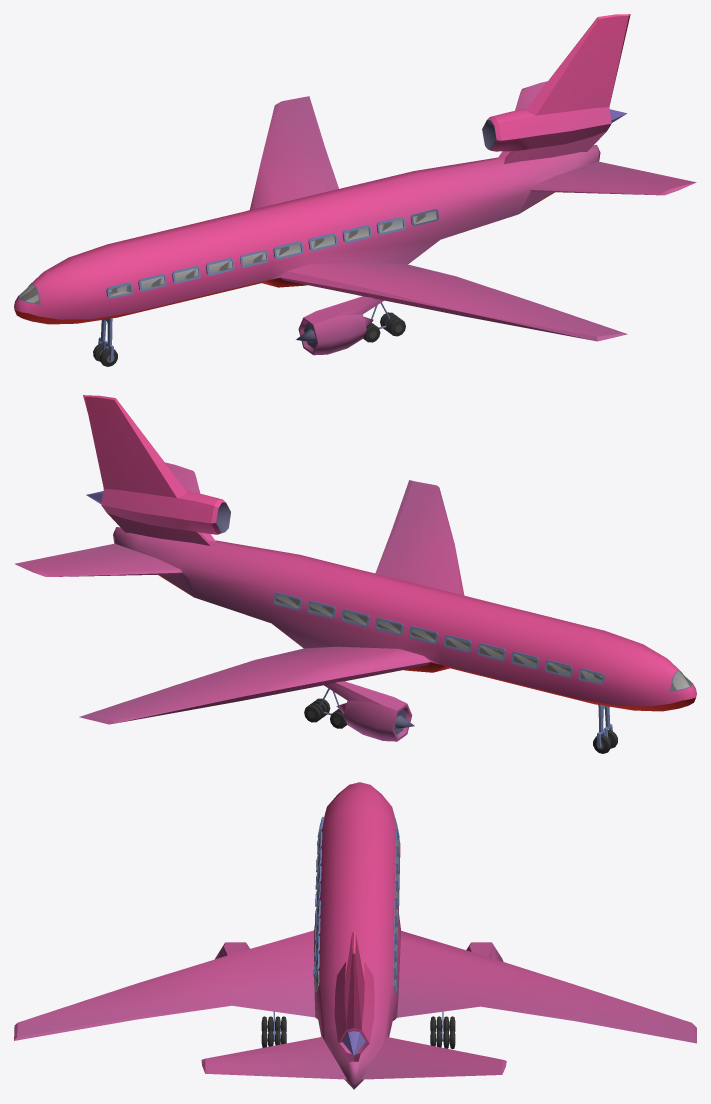
3 views of the same model, one above another, from view 1: azimuth 30°, elevation 25°; view 2: azimuth 150°, elevation 25°; view 3: azimuth 270°, elevation 25° (orthographic). The views are drawn at different scales.
Parts seen in each view (by area): view 1: Plane_3_D; view 2: Plane_3_D; view 3: Plane_3_D.
Boxes of the visible parts, <box> form: Plane_3_D: <box>14,14,696,366</box>; Plane_3_D: <box>14,395,696,753</box>; Plane_3_D: <box>14,782,696,1089</box>.
Size of the model in its own units: 2712 by 969 by 2481.
